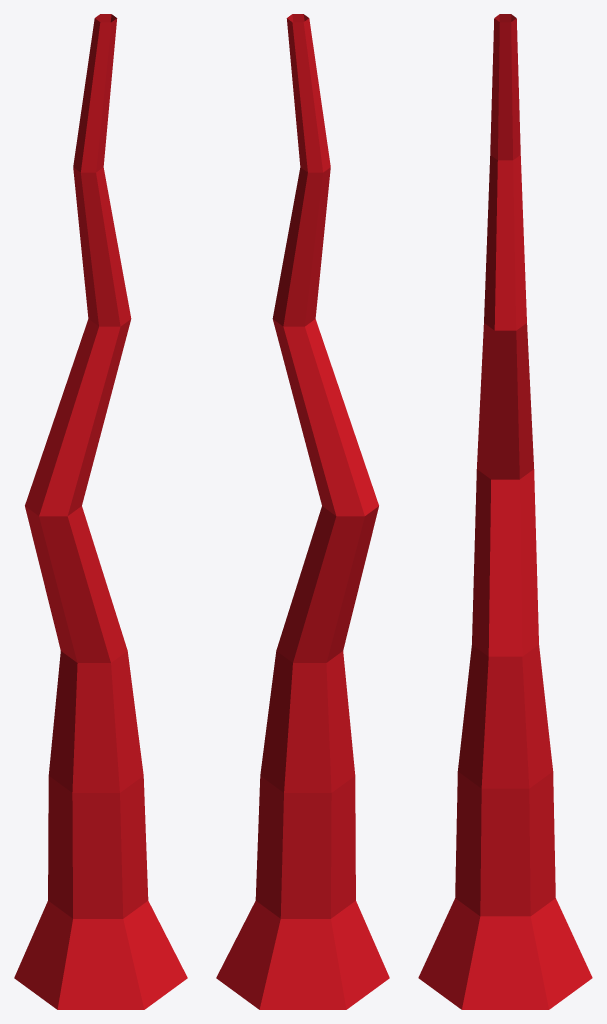
Rendered from Coral 1.fbx.
3 views of the same model, side by side, from view 1: azimuth 30°, elevation 25°; view 2: azimuth 150°, elevation 25°; view 3: azimuth 270°, elevation 25° (orthographic).
Parts seen in each view (by area): view 1: coral.002; view 2: coral.002; view 3: coral.002.
Boxes of the visible parts, bbox=[...] form: coral.002: bbox=[14, 14, 187, 1009]; coral.002: bbox=[216, 14, 389, 1009]; coral.002: bbox=[418, 14, 592, 1009].
Bounding box in the file's own units: 12.6 × 85.97 × 14.13.
